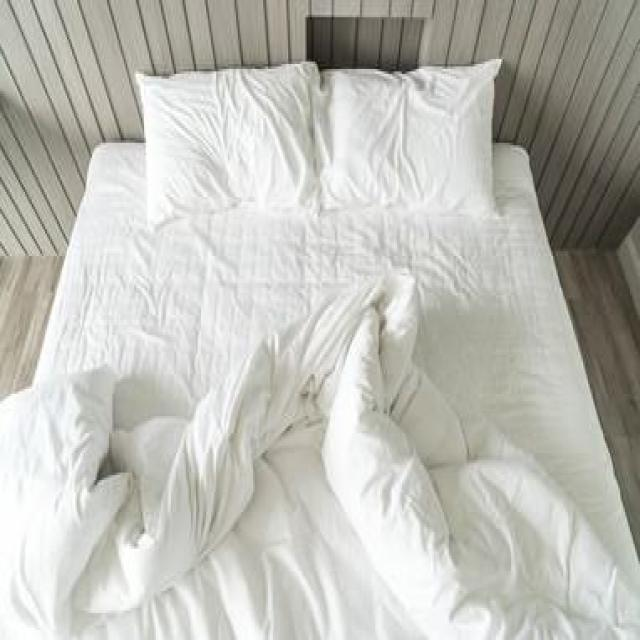bed: (57, 47, 556, 640)
